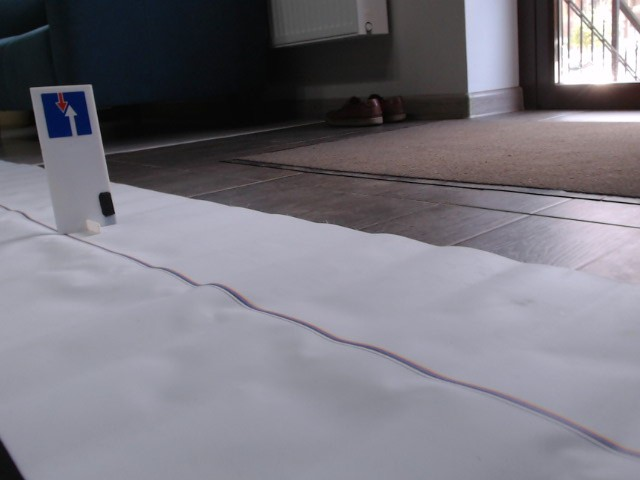priority_movement: (39, 90, 96, 140)
